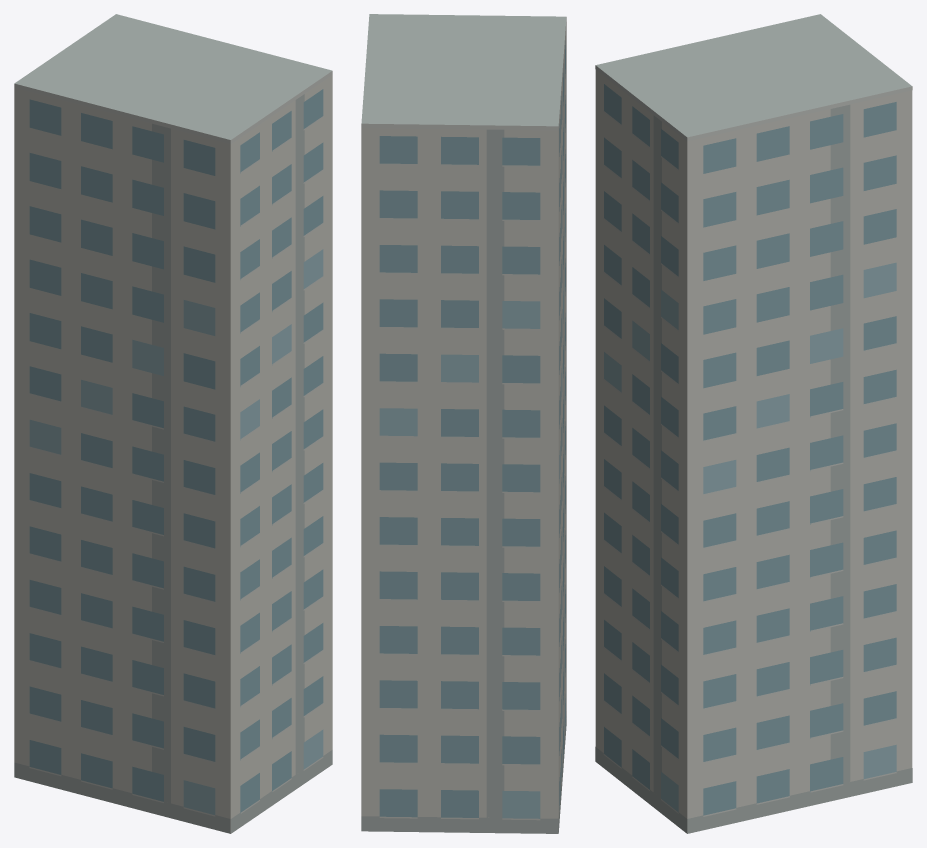
File: residential-caeb1f2a-a2f1-49cf-a738-b939d1bbabb6.glb
The picture shows the model from 3 angles, left to right: view 1: azimuth 30°, elevation 25°; view 2: azimuth 150°, elevation 25°; view 3: azimuth 270°, elevation 25°; orthographic projection.
Parts seen in each view (by area): view 1: residential-caeb1f2a-a2f1-49cf-a738-b939d1bbabb6.tmp; view 2: residential-caeb1f2a-a2f1-49cf-a738-b939d1bbabb6.tmp; view 3: residential-caeb1f2a-a2f1-49cf-a738-b939d1bbabb6.tmp.
Boxes of the visible parts, left/top/right/bottom form: residential-caeb1f2a-a2f1-49cf-a738-b939d1bbabb6.tmp: left=14, top=14, right=332, bottom=833; residential-caeb1f2a-a2f1-49cf-a738-b939d1bbabb6.tmp: left=361, top=14, right=566, bottom=833; residential-caeb1f2a-a2f1-49cf-a738-b939d1bbabb6.tmp: left=595, top=14, right=912, bottom=833.
Bounding box in the file's own units: 15.59 × 41 × 16.92.
